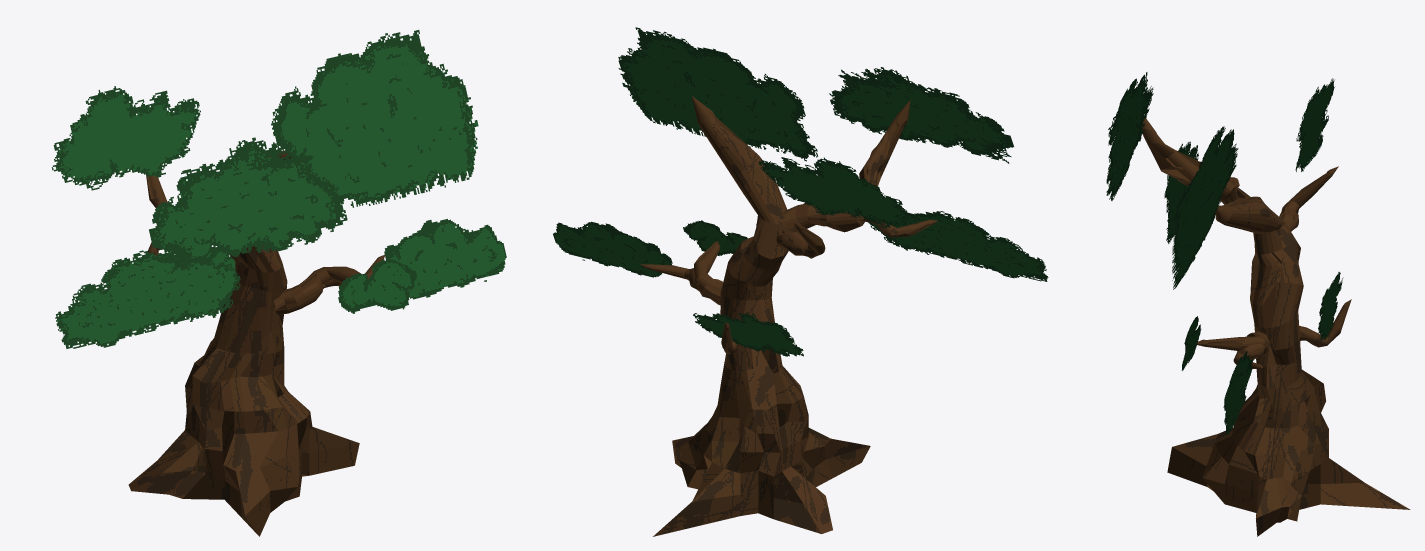
File: tree.gltf
The picture shows the model from 3 angles, left to right: view 1: azimuth 30°, elevation 25°; view 2: azimuth 150°, elevation 25°; view 3: azimuth 270°, elevation 25°; orthographic projection. The views are drawn at different scales.
Visible parts, largest first — view 1: cube (×6), cylinder, branch 1; view 2: cube (×7), cylinder, Mini branch, branch 1; view 3: cylinder, cube (×7), Mini branch, branch 1, branch2, branch 1--2.
Part boxes in pixels (left/top/right/bottom): cube (×6): left=51, top=30, right=506, bottom=348; cylinder: left=128, top=150, right=359, bottom=536; branch 1: left=274, top=266, right=368, bottom=314; cube (×7): left=553, top=27, right=1048, bottom=356; cylinder: left=653, top=96, right=870, bottom=536; Mini branch: left=756, top=100, right=937, bottom=258; branch 1: left=694, top=241, right=723, bottom=305; cylinder: left=1167, top=196, right=1410, bottom=536; cube (×7): left=1106, top=72, right=1343, bottom=434; Mini branch: left=1141, top=118, right=1338, bottom=236; branch 1: left=1197, top=331, right=1269, bottom=354; branch2: left=1299, top=299, right=1351, bottom=347; branch 1--2: left=1233, top=343, right=1269, bottom=369.
Size of the model in its own units: 0.725 by 0.6162 by 0.439.
14 materials, 14 textured.
